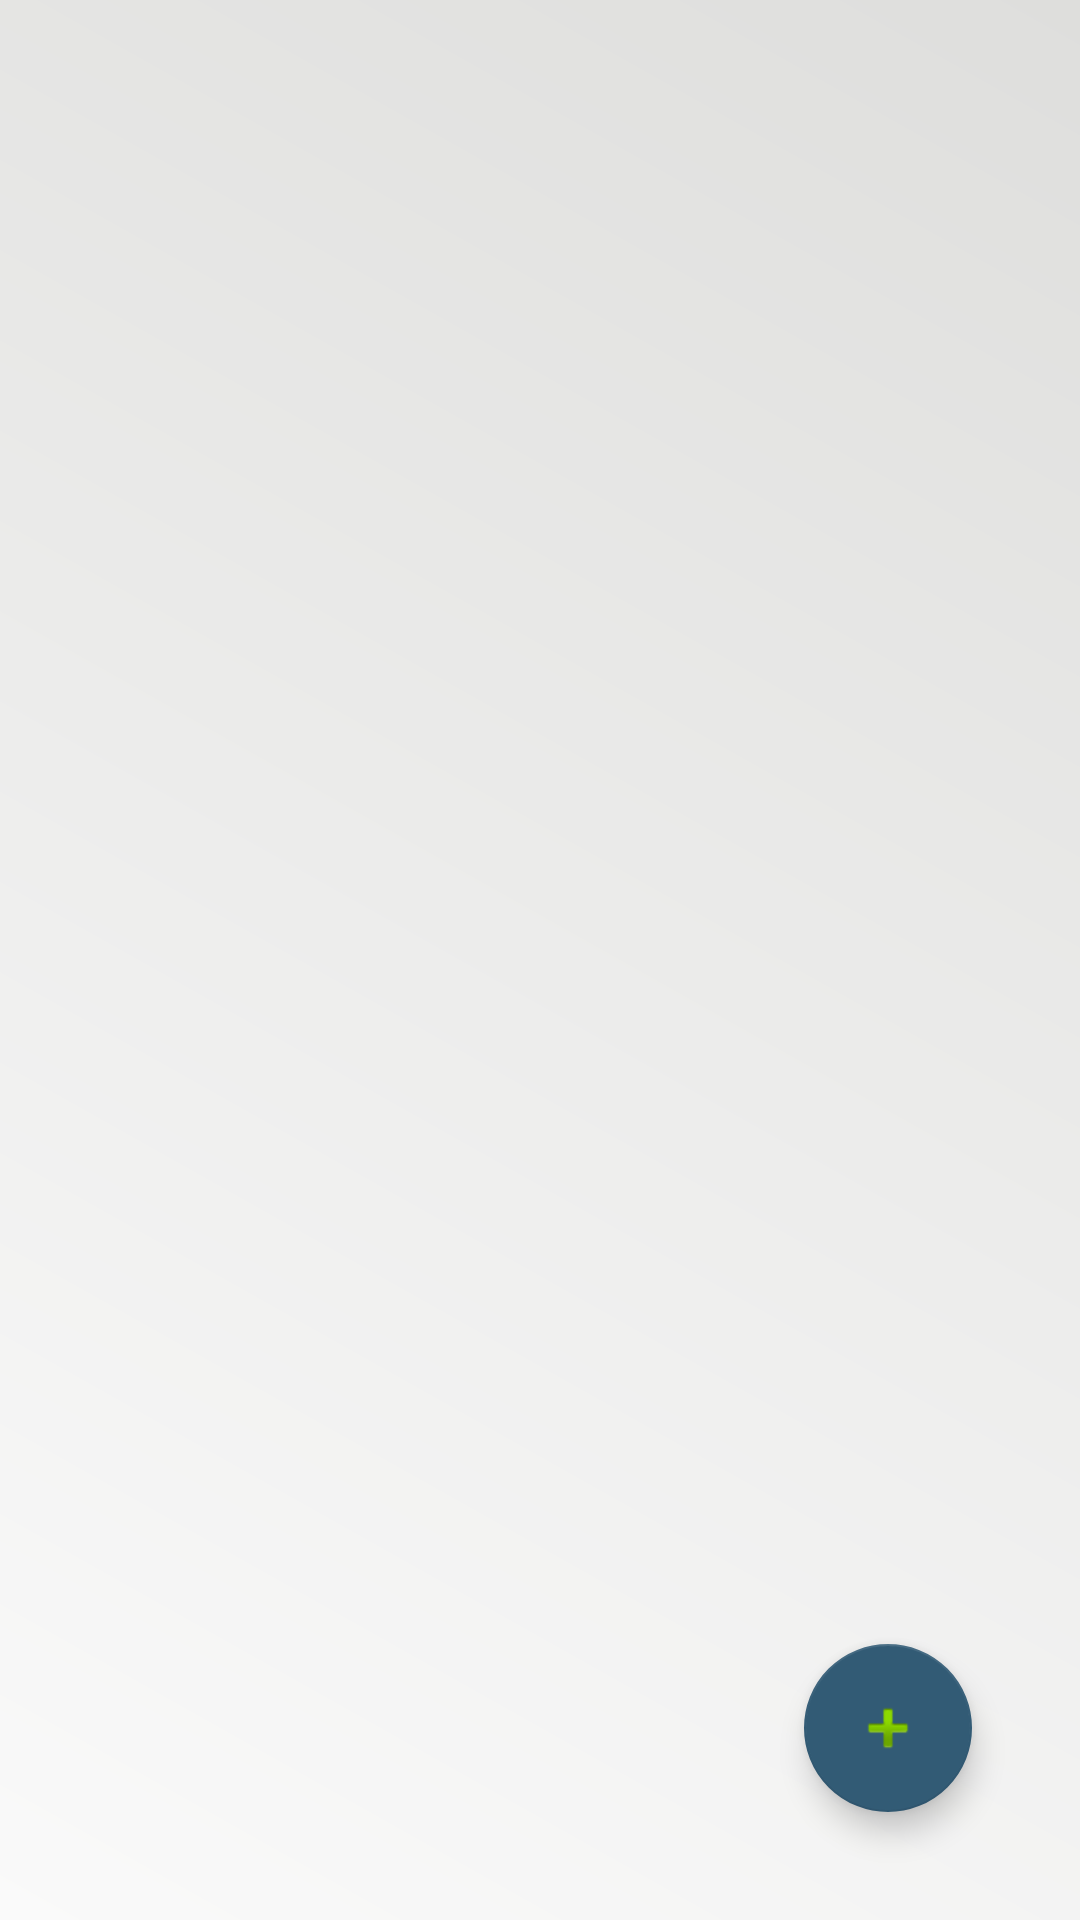

Icons on this 1080×1920 Android screen, each with the point to tap as [x,y]:
add: [888,1728]
